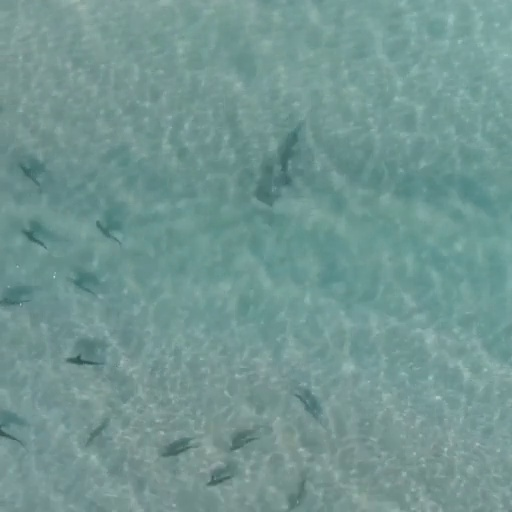shark: (261, 118, 311, 190)
